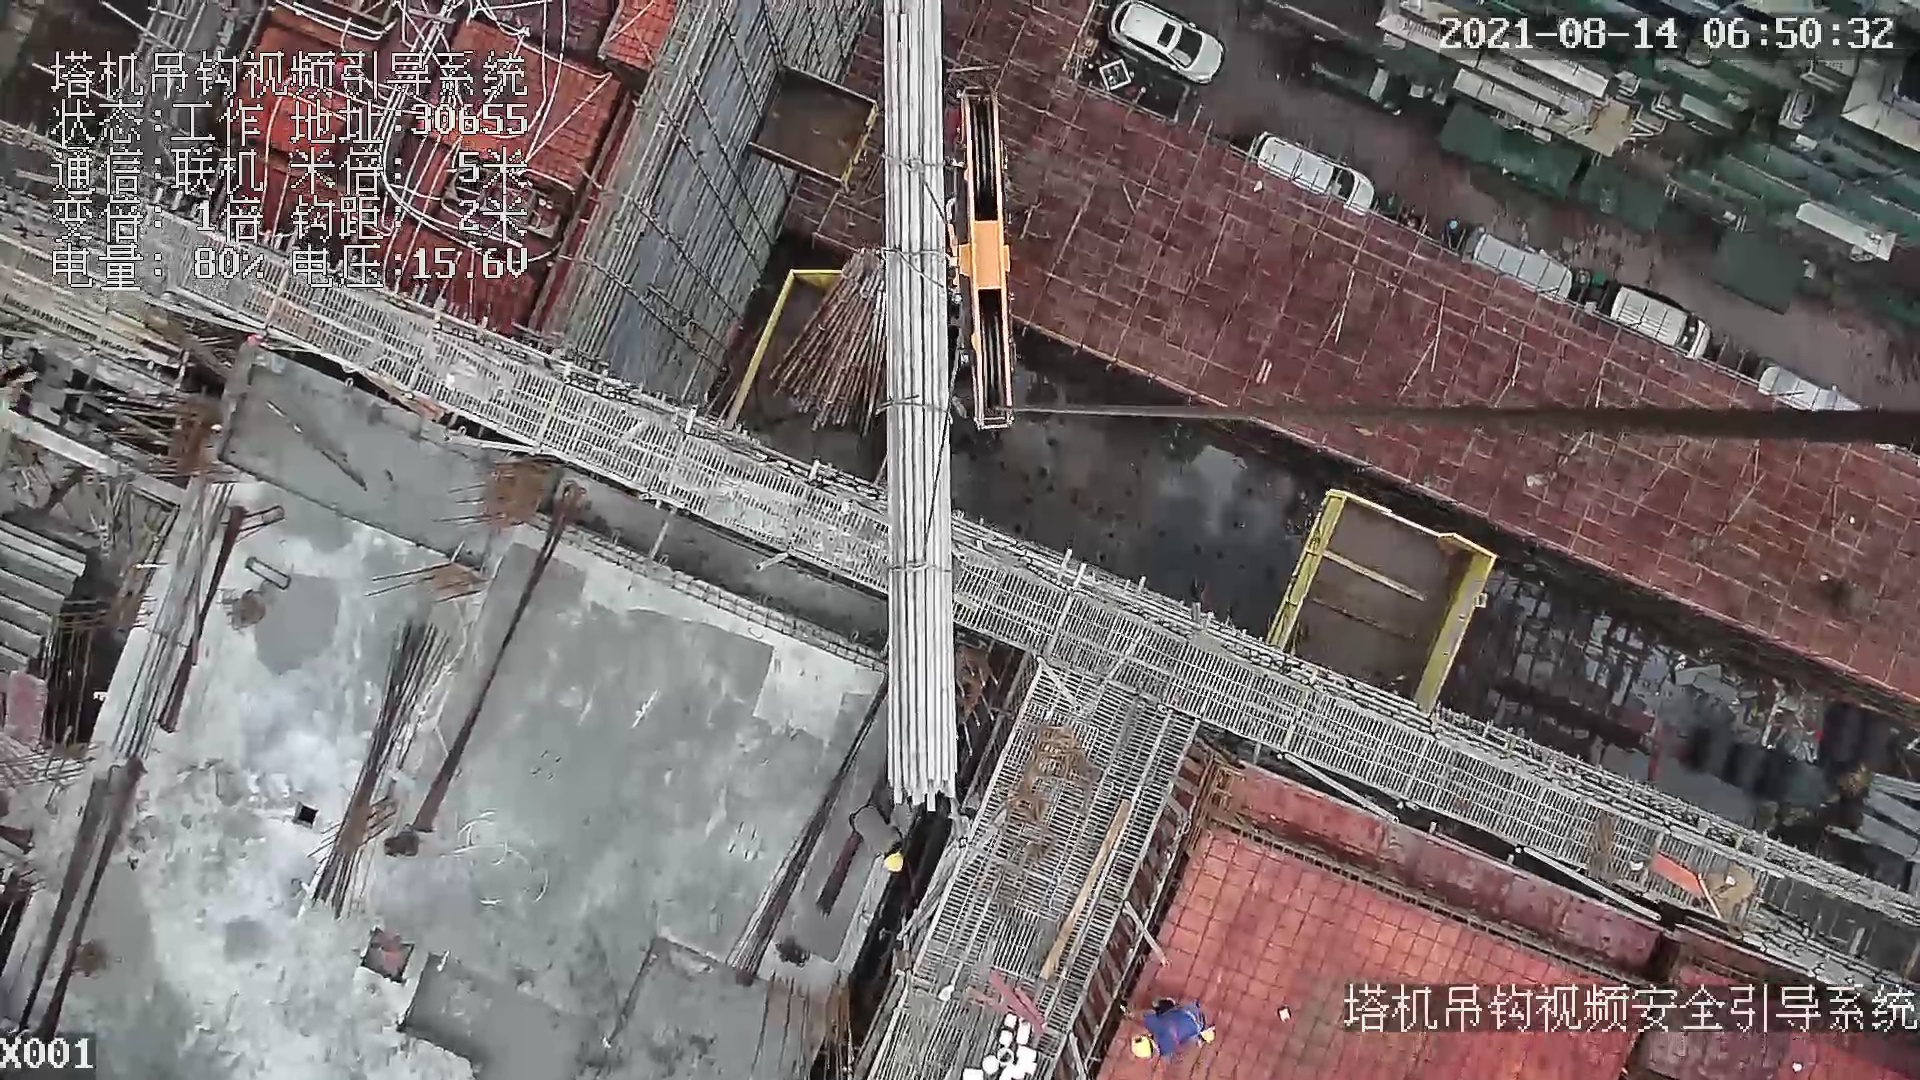helmet: (1131, 1026, 1162, 1067), (880, 849, 909, 873)
hook: (928, 83, 1019, 439)
person: (1120, 992, 1227, 1058), (843, 799, 917, 881)
